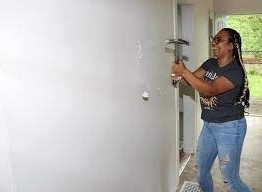not_fallen: (165, 25, 259, 192)
